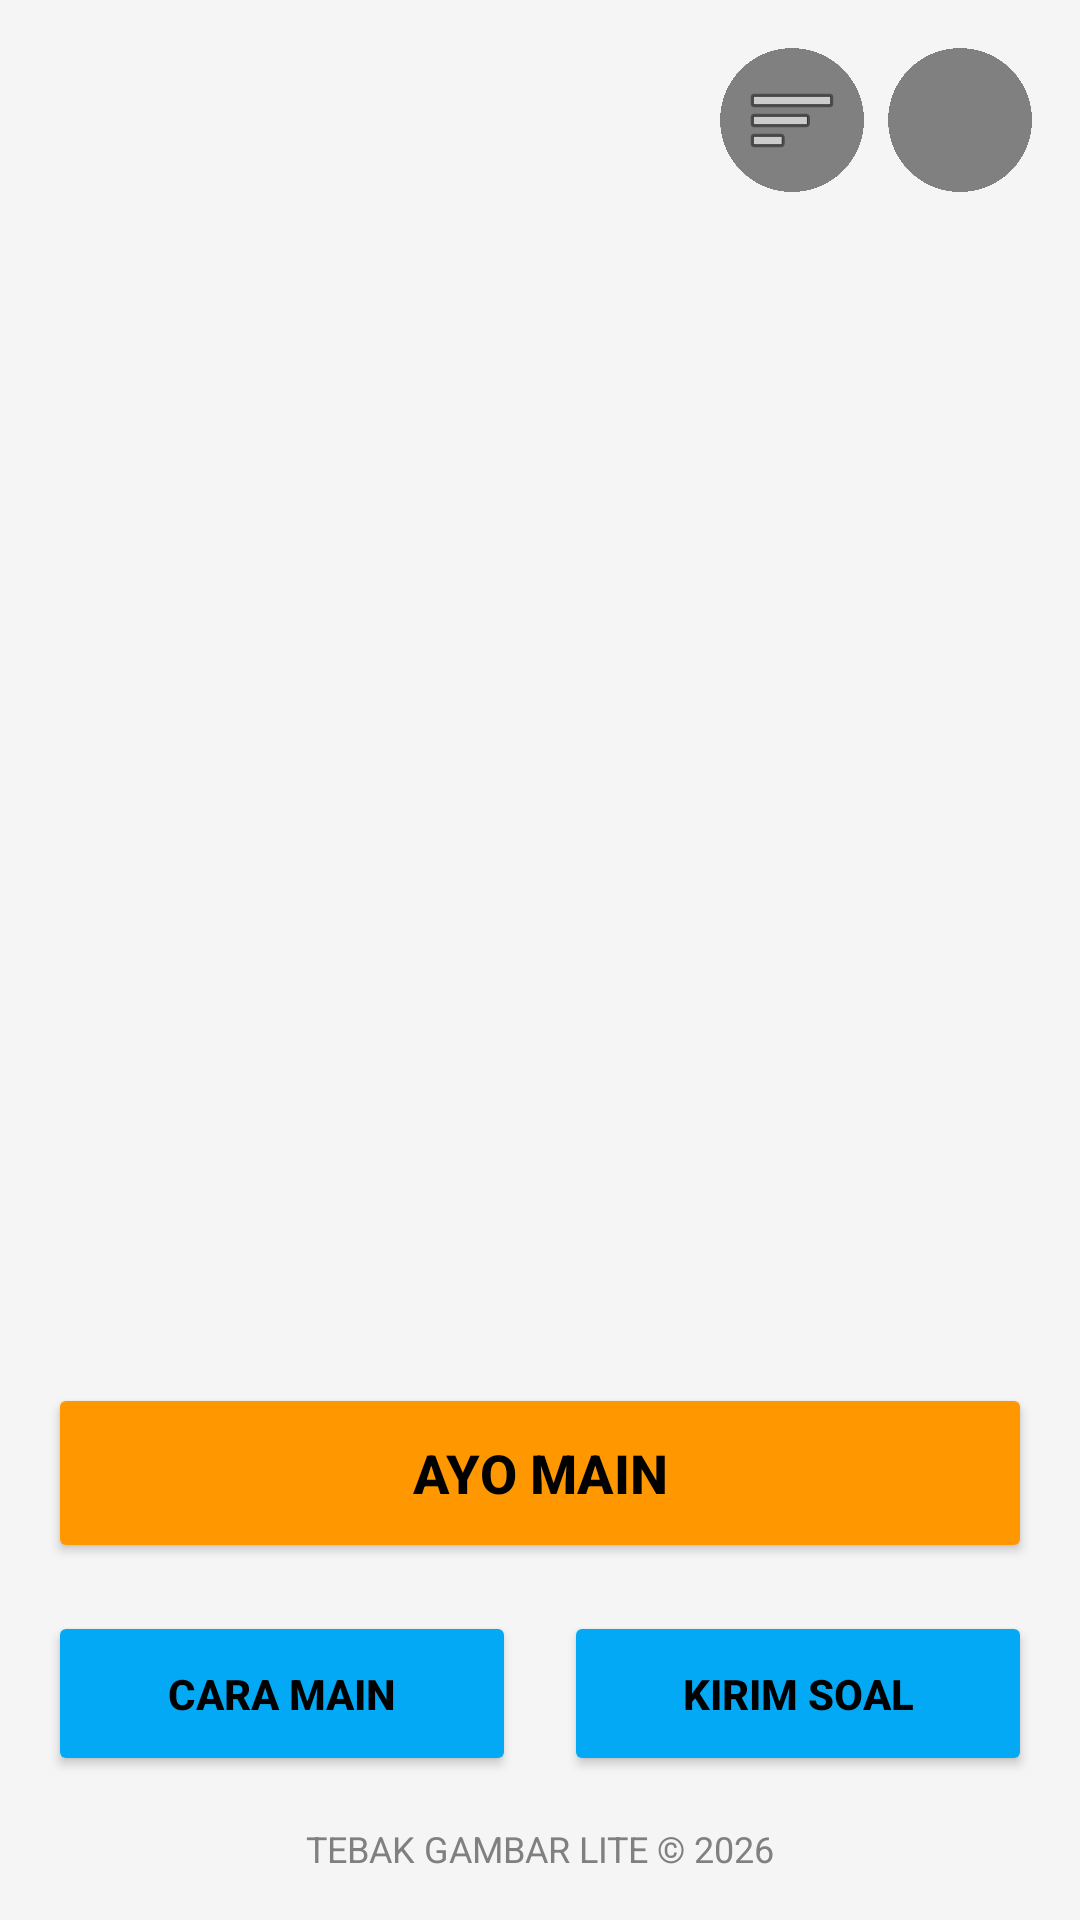

Named icons in this screenshot (1080*1920) and their bounding boxes, [x1,y1,x2,y2]:
Lihat Data: [720,48,864,192]
